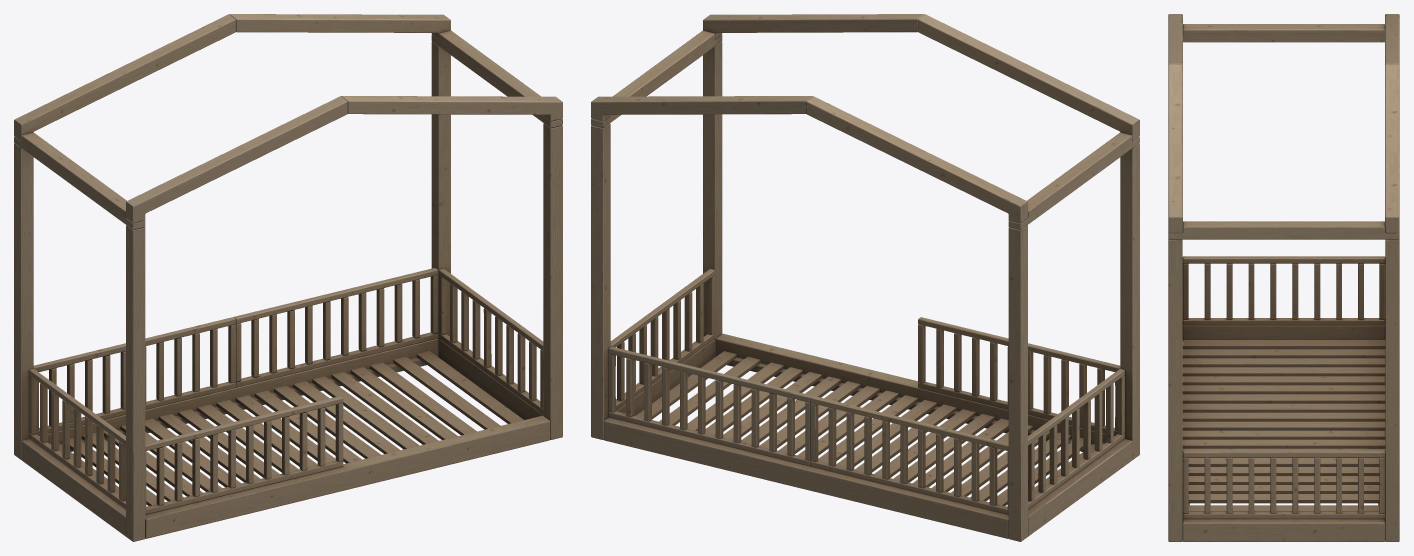
The picture shows the model from 3 angles, left to right: view 1: azimuth 30°, elevation 25°; view 2: azimuth 150°, elevation 25°; view 3: azimuth 270°, elevation 25°; orthographic projection. The views are drawn at different scales.
Parts seen in each view (by area): view 1: 200x90; view 2: 200x90; view 3: 200x90.
Part boxes in pixels (x1,y1,x2,y2): 200x90: [14, 14, 562, 541]; 200x90: [591, 14, 1139, 541]; 200x90: [1168, 14, 1399, 541].
Size of the model in its own units: 2.02 by 1.74 by 0.97.
1 material, 1 textured.
